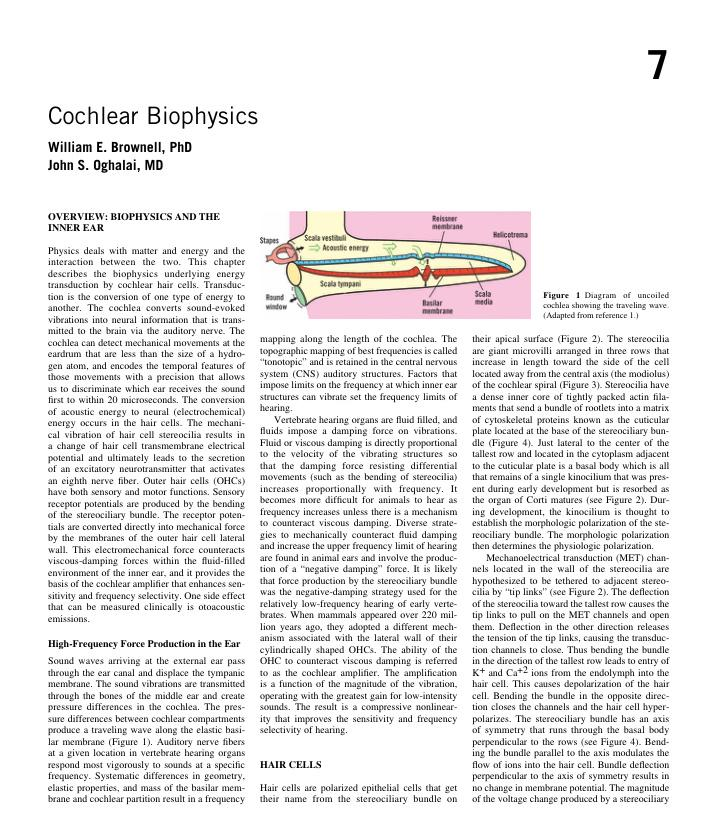caption: (542, 290, 670, 321)
chapter-heading: (48, 104, 259, 131)
image: (257, 210, 532, 320)
section-heading: (47, 211, 221, 232), (259, 759, 323, 770)
sub-section-heading: (47, 638, 242, 650)
text: (471, 332, 671, 806), (258, 334, 458, 737), (46, 246, 247, 624), (47, 656, 246, 806), (258, 782, 460, 806)
